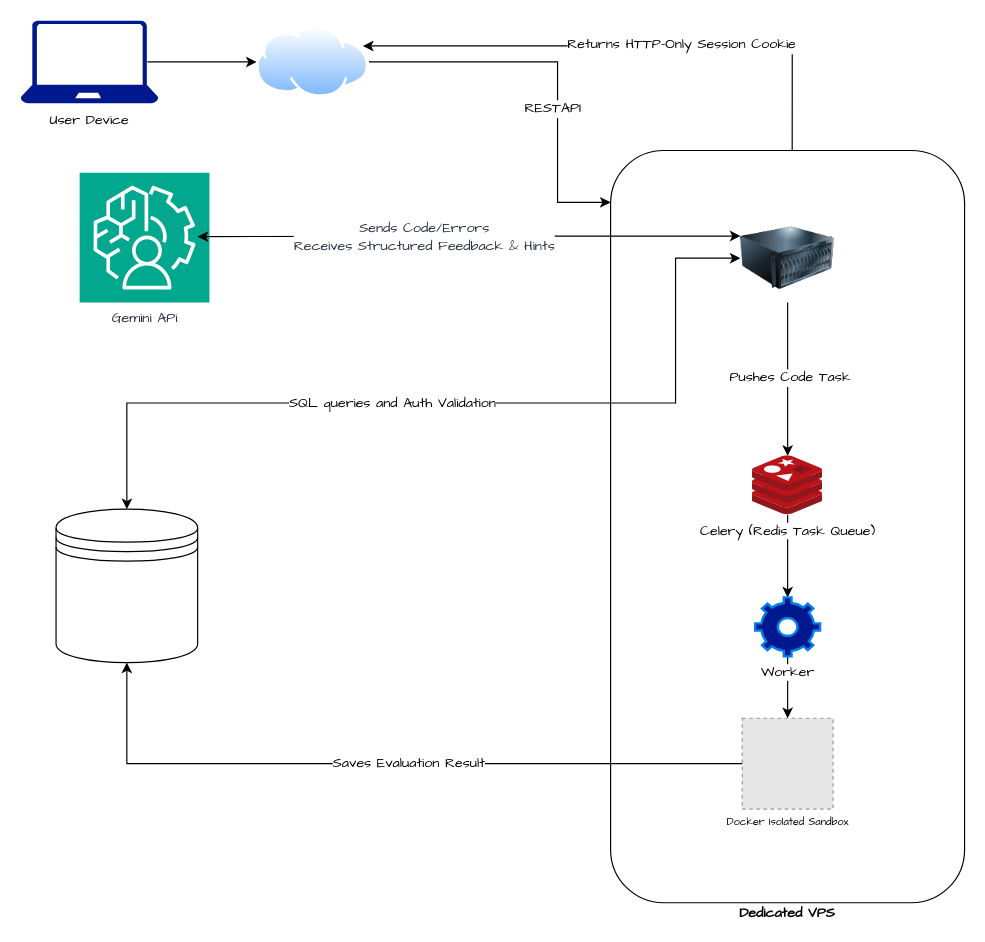
The diagram is 985 pixels wide and 942 high, and some of its shapes have lost their labels. Grey dashed boxes stand in for pictures. Each missing label, with the centre of its shape:
FastAPI Backend: (787,257)
PostgreSQL + Auth: (126,585)
Vercel CDN (Nextjs Frontend): (312,61)
